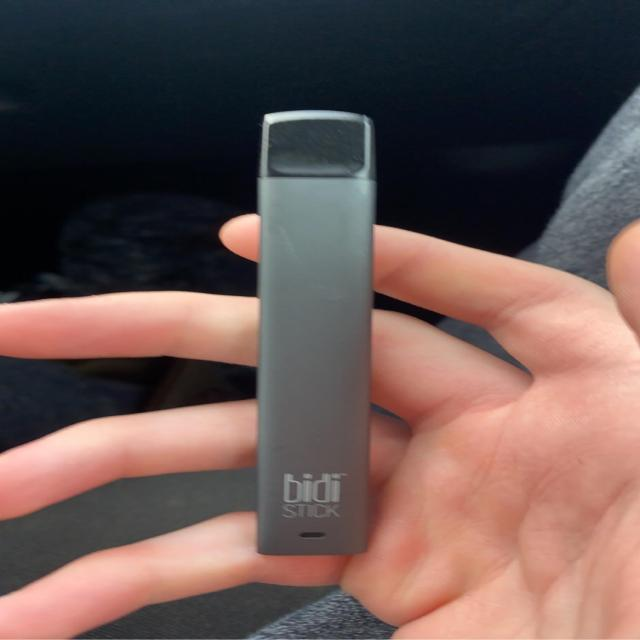Hazard: (252, 109, 378, 559)
